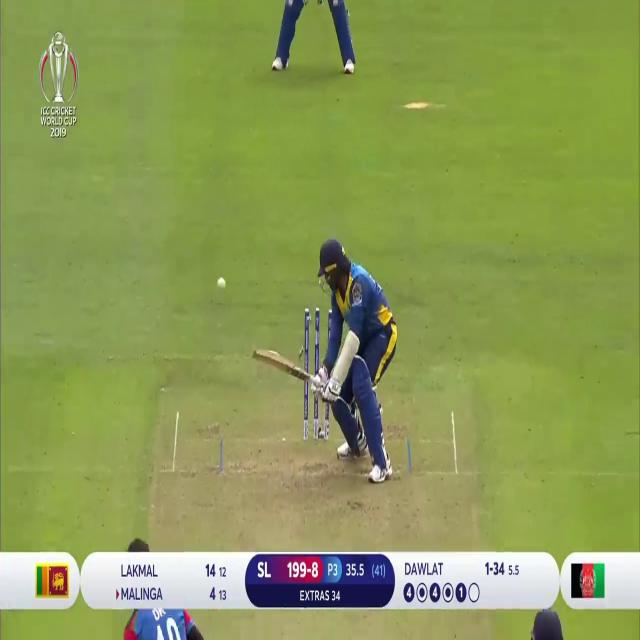ball: (217, 276, 227, 294)
